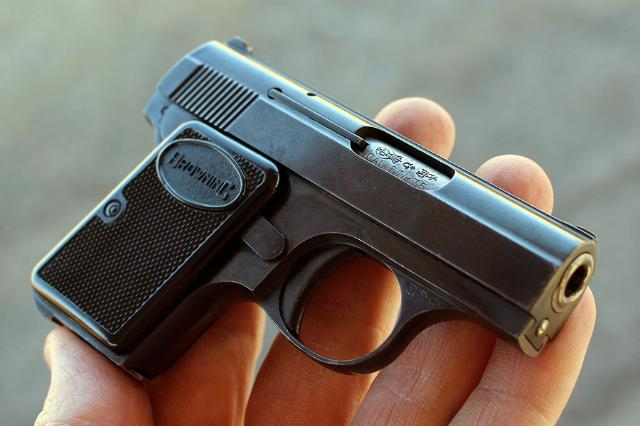handgun: (24, 32, 606, 392)
